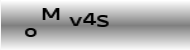4: (81, 11, 96, 26)
M: (40, 7, 60, 21)
S: (96, 14, 110, 27)
o: (23, 27, 37, 38)
v: (69, 15, 83, 27)
